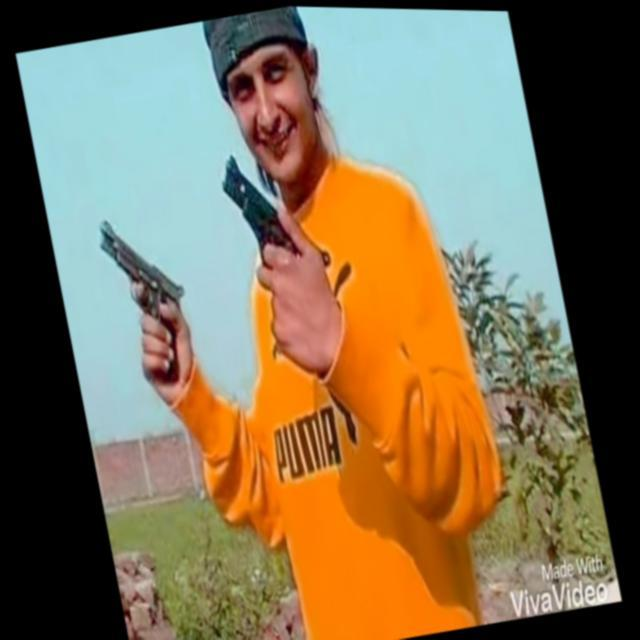weapon: (213, 137, 342, 363), (94, 206, 204, 393)
